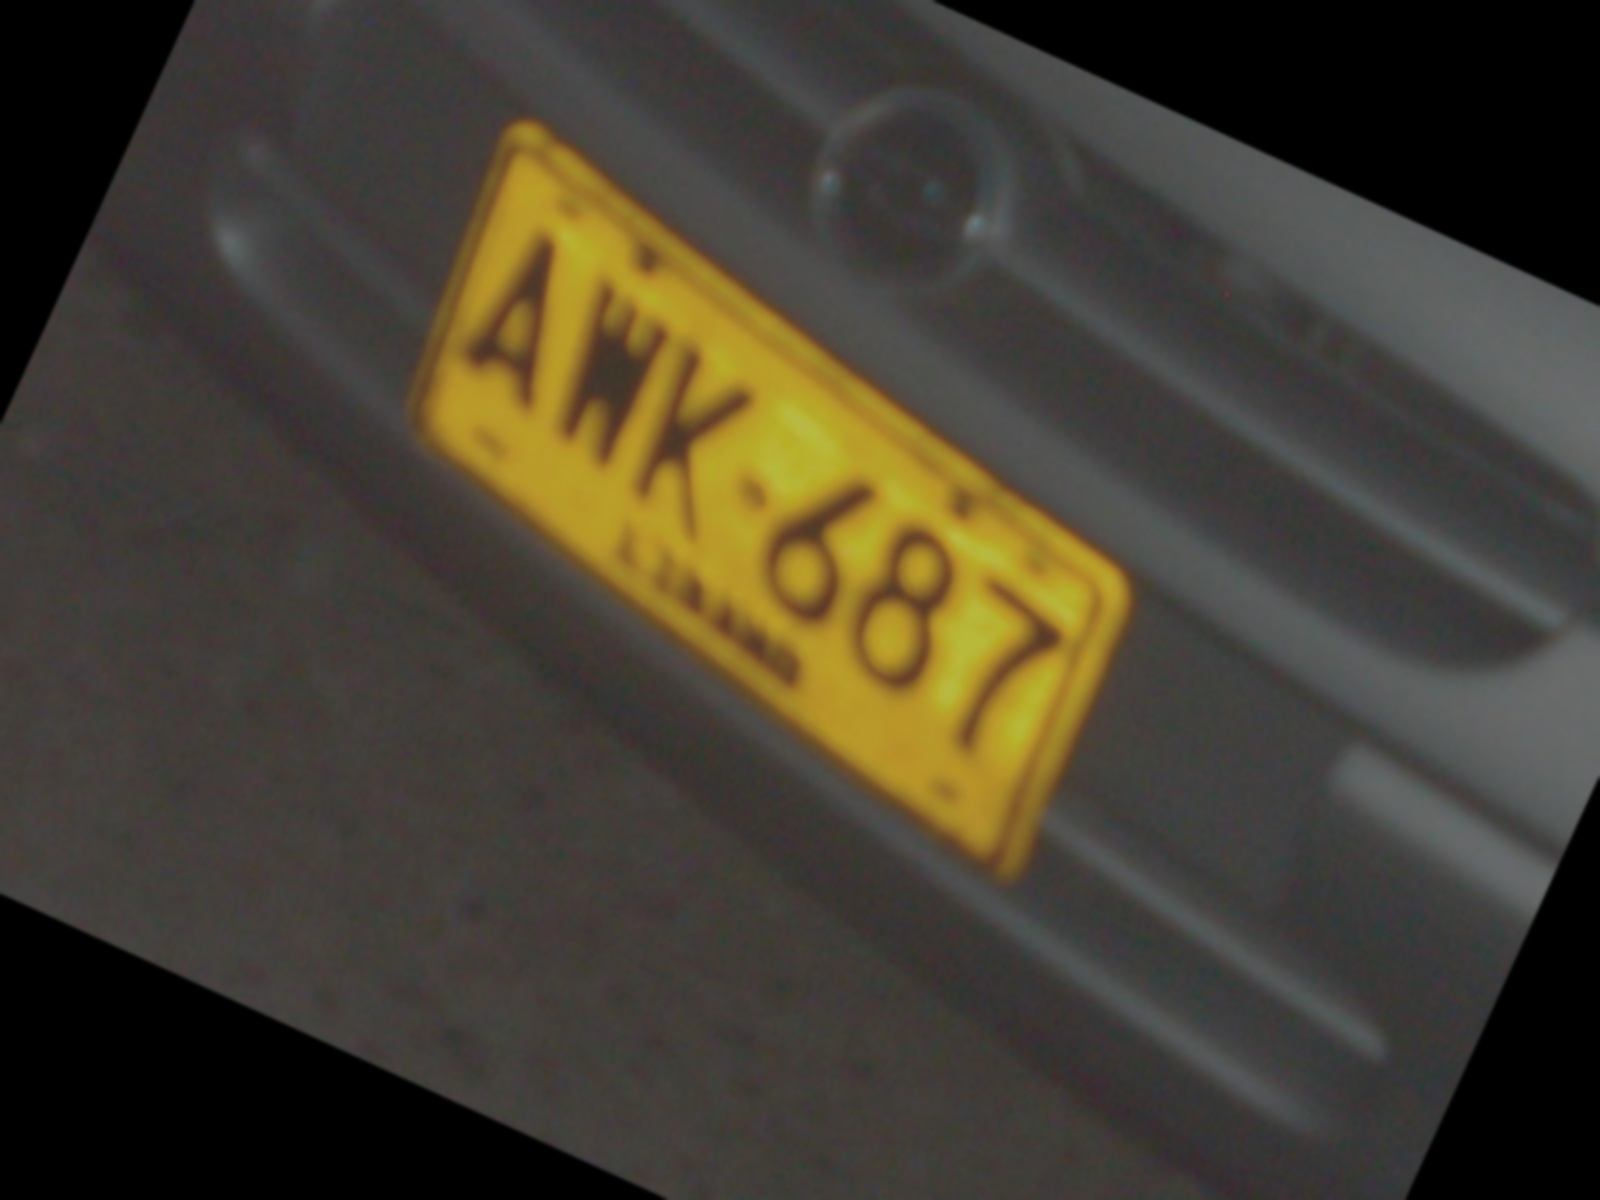placas: (296, 91, 1237, 902)
